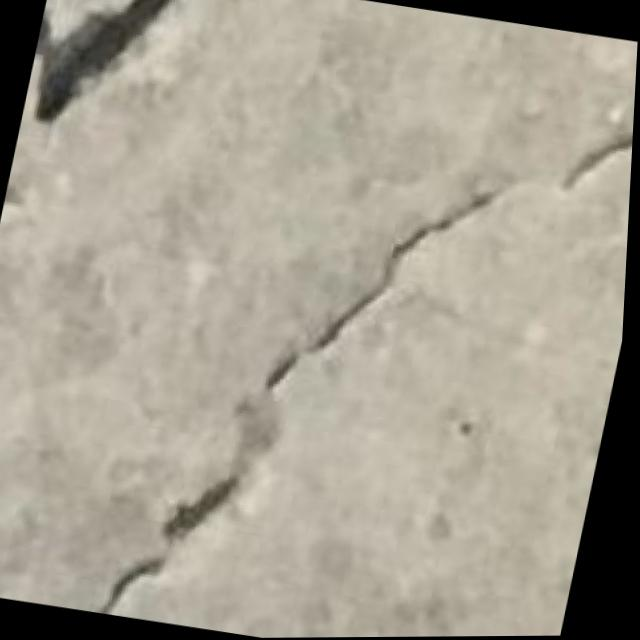Crack: (95, 46, 638, 639), (19, 0, 193, 157)
